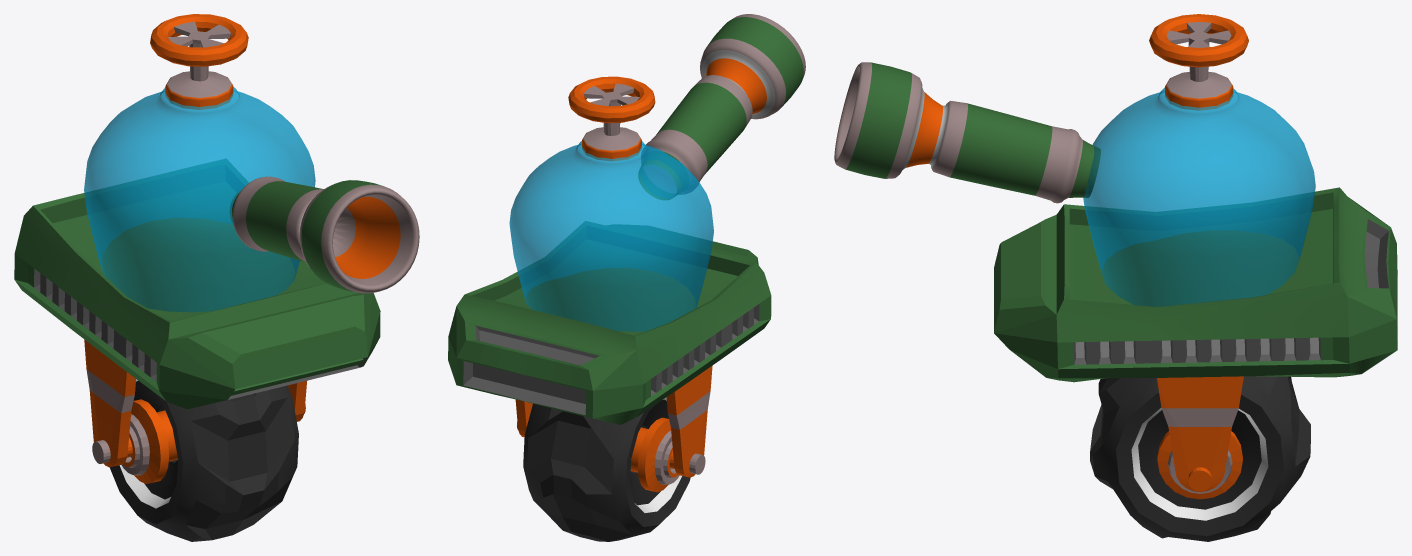
File: FishTankMain.fbx
The picture shows the model from 3 angles, left to right: view 1: azimuth 30°, elevation 25°; view 2: azimuth 150°, elevation 25°; view 3: azimuth 270°, elevation 25°; orthographic projection. The views are drawn at different scales.
Parts seen in each view (by area): view 1: Mainbody4, FishTank, Tire2, Cannon, Axel, Top_Turnstole; view 2: Mainbody4, FishTank, Cannon, Tire2, Axel, Top_Turnstole; view 3: Mainbody4, FishTank, Cannon, Tire2, Axel, Top_Turnstole.
Part boxes in pixels (box(x1,y1,x2,y2)): Mainbody4: box(14, 159, 380, 409); FishTank: box(84, 87, 315, 312); Tire2: box(109, 379, 298, 541); Cannon: box(230, 176, 419, 293); Axel: box(84, 339, 306, 483); Top_Turnstole: box(150, 14, 248, 109); Mainbody4: box(448, 221, 771, 424); FishTank: box(509, 141, 713, 331); Cannon: box(638, 14, 805, 199); Tire2: box(523, 397, 690, 541); Axel: box(515, 365, 712, 492); Top_Turnstole: box(568, 76, 655, 160); Mainbody4: box(994, 187, 1397, 382); FishTank: box(1083, 87, 1315, 306); Cannon: box(834, 62, 1100, 203); Tire2: box(1090, 376, 1310, 541); Axel: box(1157, 376, 1243, 499); Top_Turnstole: box(1149, 14, 1248, 110).
Bounding box in the file's own units: 1 × 2.2 × 2.15.
